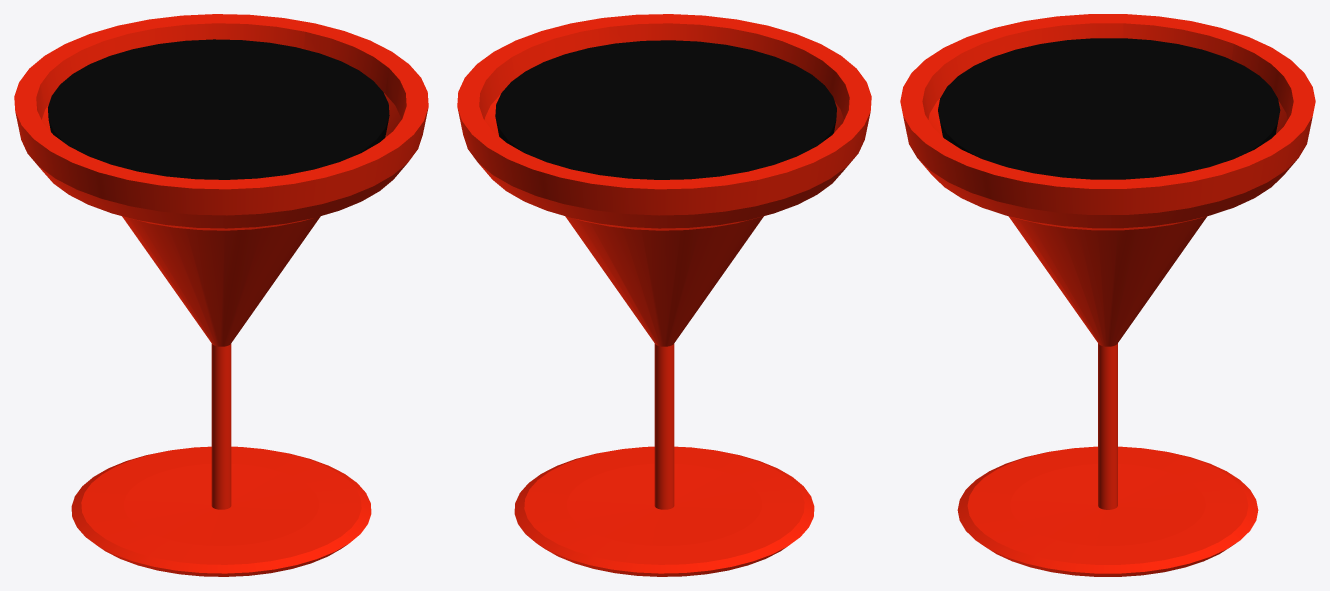
The model's file is Glass6.FBX.
3 renders of one model, left to right at view 1: azimuth 30°, elevation 25°; view 2: azimuth 150°, elevation 25°; view 3: azimuth 270°, elevation 25°, orthographic.
Visible parts, largest first — view 1: Object020, Object022, Line008; view 2: Object020, Object022, Line008; view 3: Object020, Object022, Line008.
Part boxes in pixels (x1,y1,x2,y2): Object020: [14, 14, 428, 346]; Object022: [48, 39, 389, 179]; Line008: [71, 344, 371, 576]; Object020: [457, 14, 871, 346]; Object022: [495, 40, 836, 179]; Line008: [514, 344, 814, 576]; Object020: [900, 14, 1315, 346]; Object022: [938, 38, 1280, 179]; Line008: [957, 343, 1258, 576].
Size of the model in its own units: 63.13 by 69.98 by 63.35.
